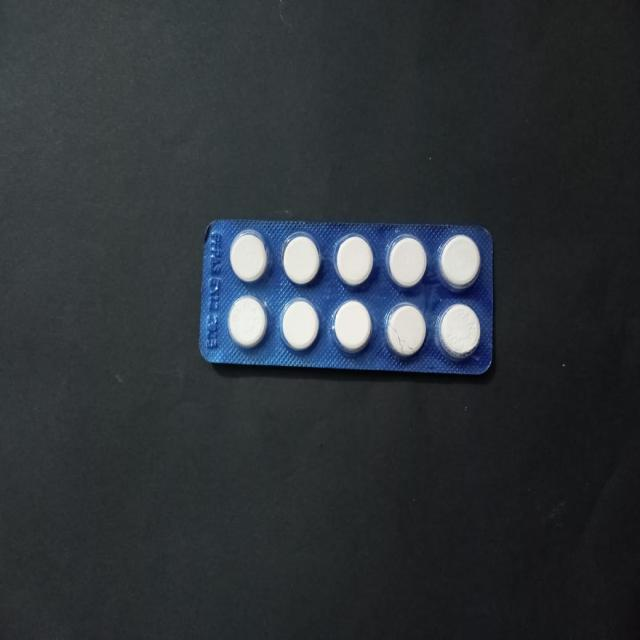defect: (384, 302, 431, 362)
